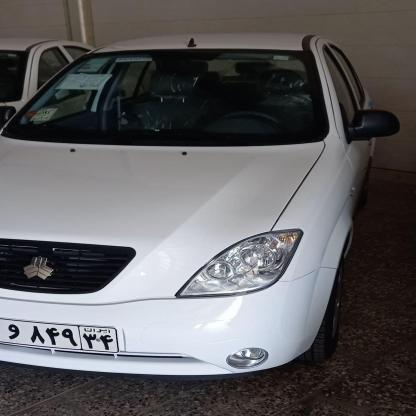Car: (0, 0, 360, 388), (0, 39, 121, 140)
